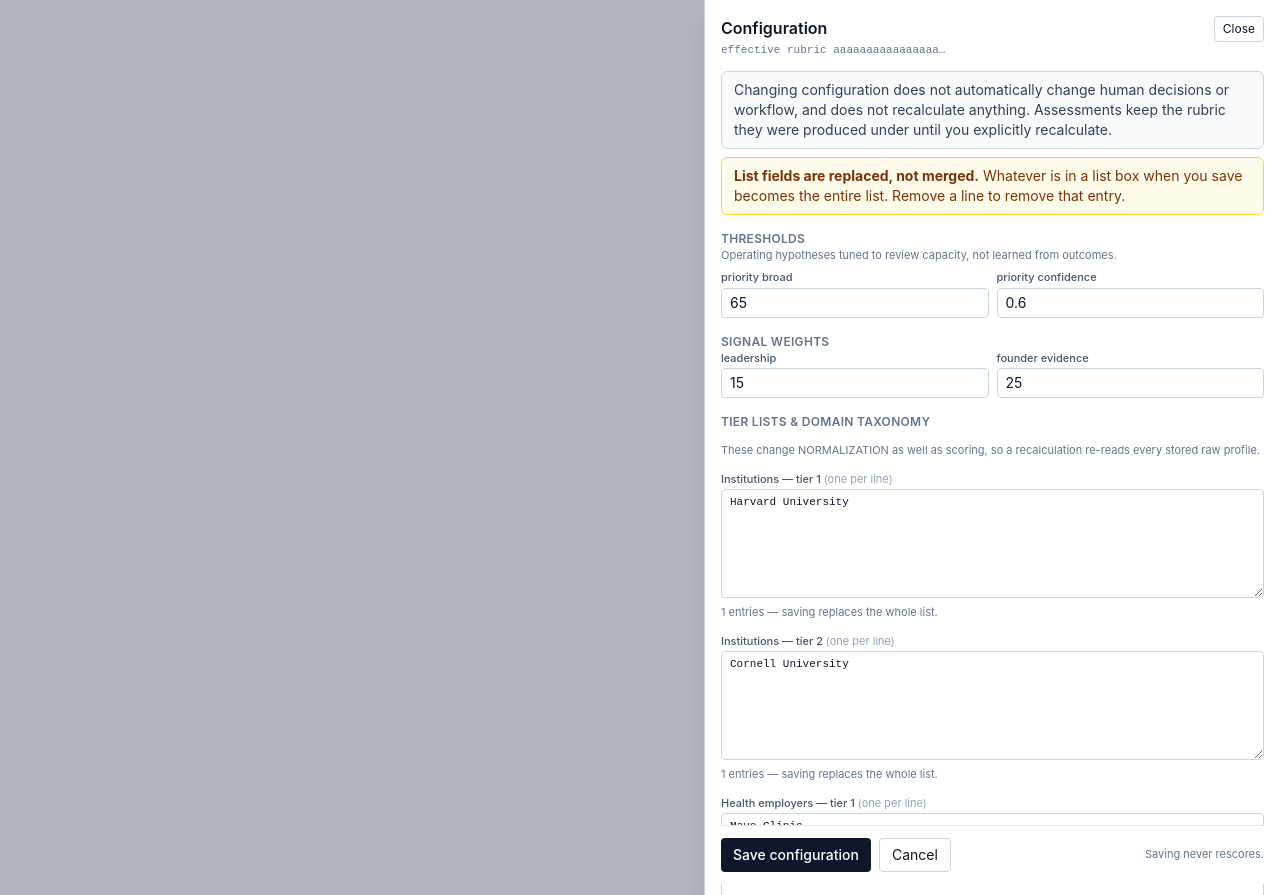
Test case: config drawer and assessment freshness › saving configuration does not rescore
Step 1. Replace the text in the number field labelled "priority broad" with "55" → [855, 302], box [721, 288, 988, 318]
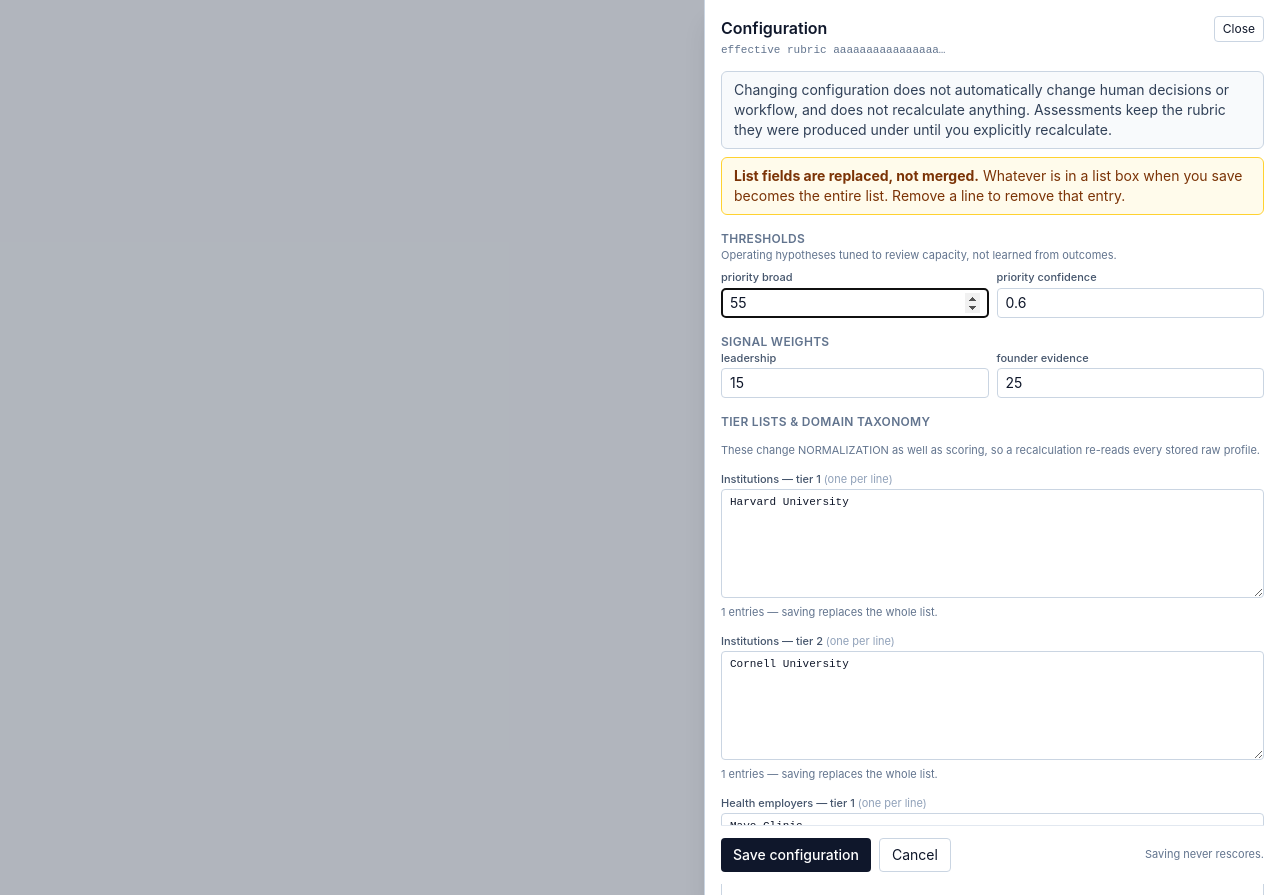
Step 2. Click the button "Save configuration" → [796, 855], box [721, 838, 871, 872]
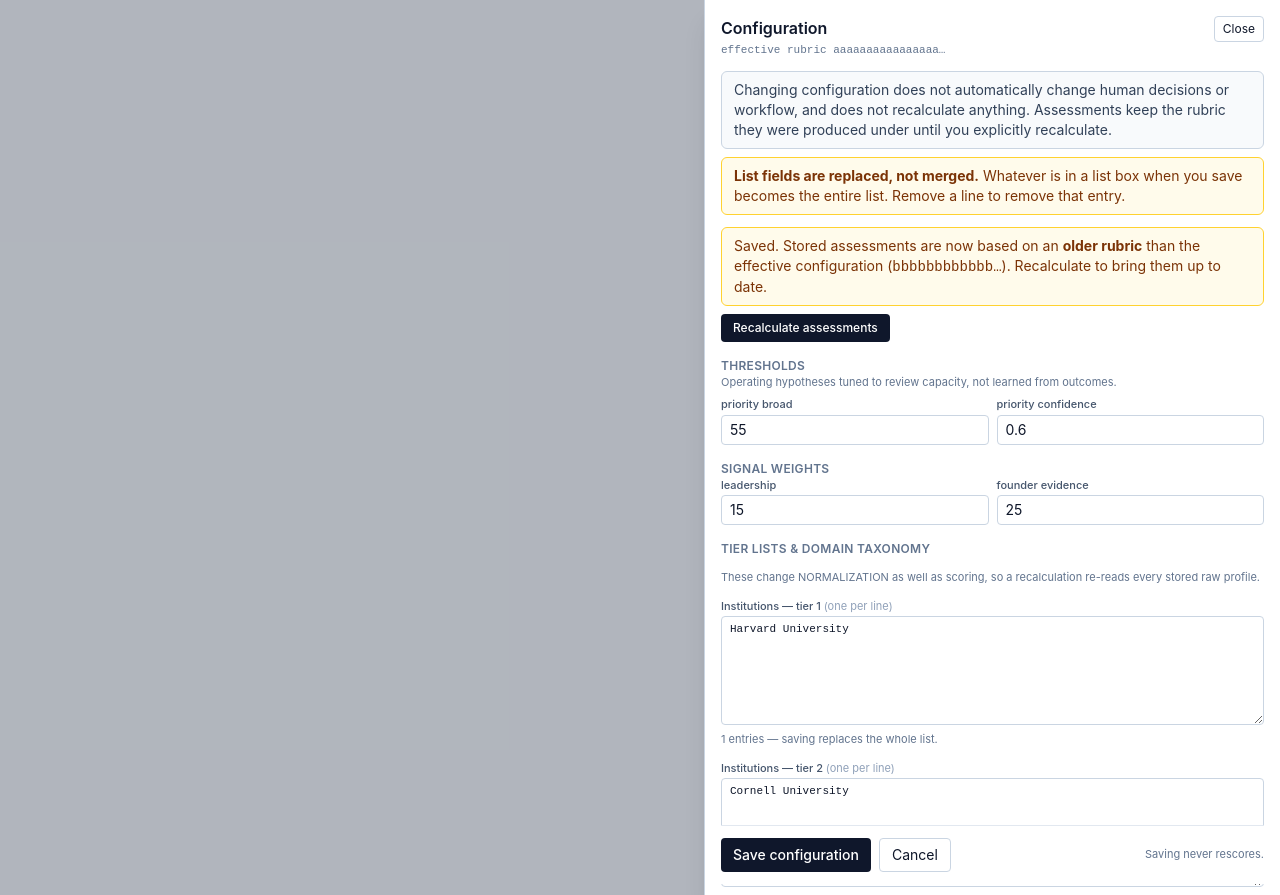
expect the text "older rubric" is shown: met, box [1063, 236, 1142, 254]
